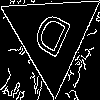D: (26, 10, 73, 67)
